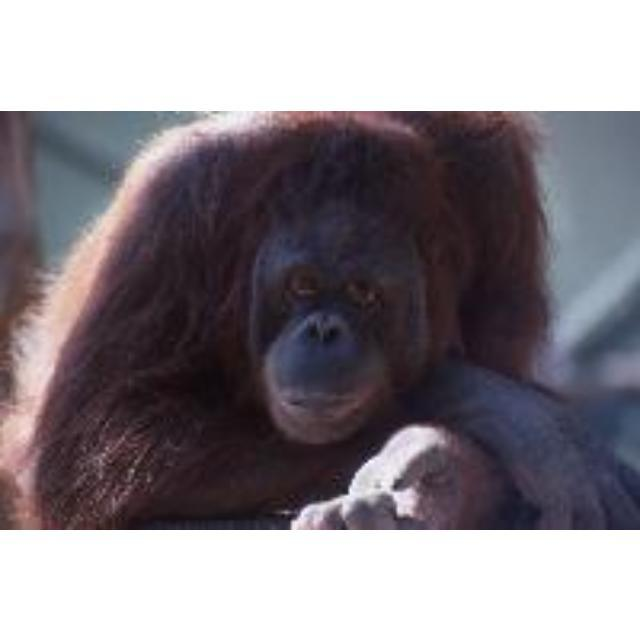Orangutan: (46, 121, 507, 524)
